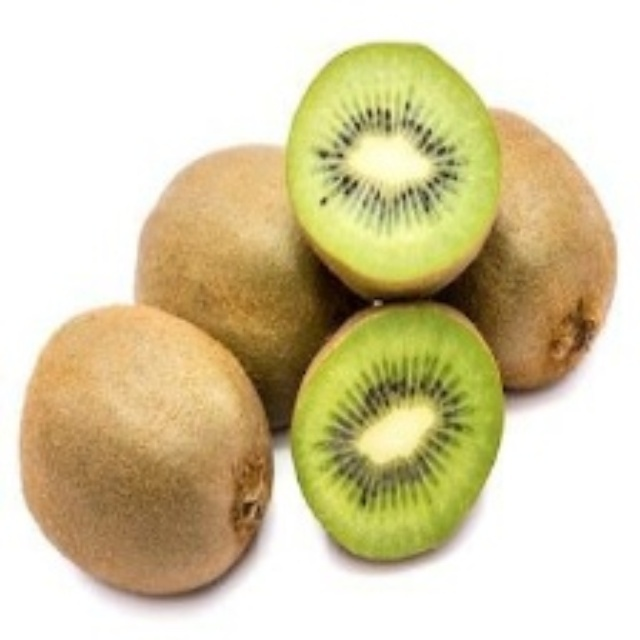kiwi: (3, 293, 273, 583), (128, 138, 340, 440), (296, 296, 502, 564), (287, 46, 500, 286), (459, 98, 620, 409)
